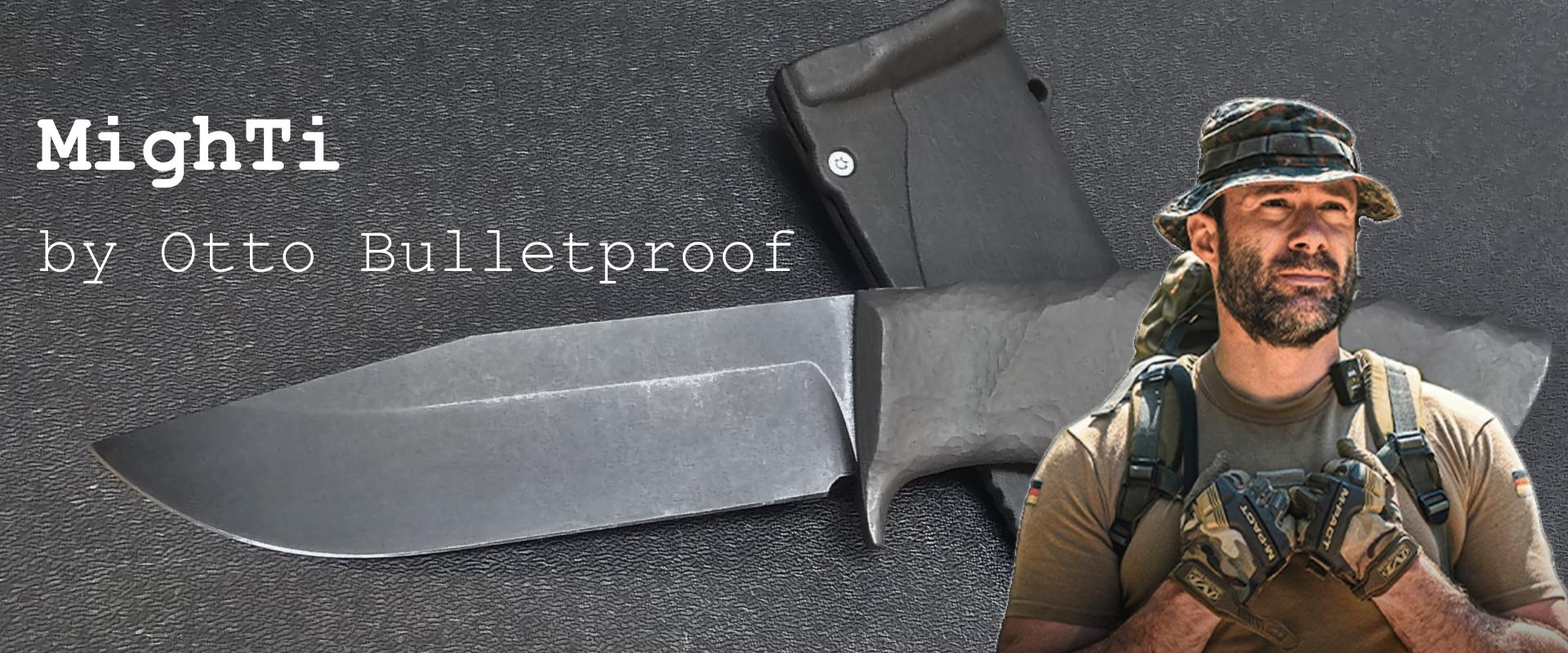Knife: (999, 97, 1568, 653), (103, 286, 1020, 542)
